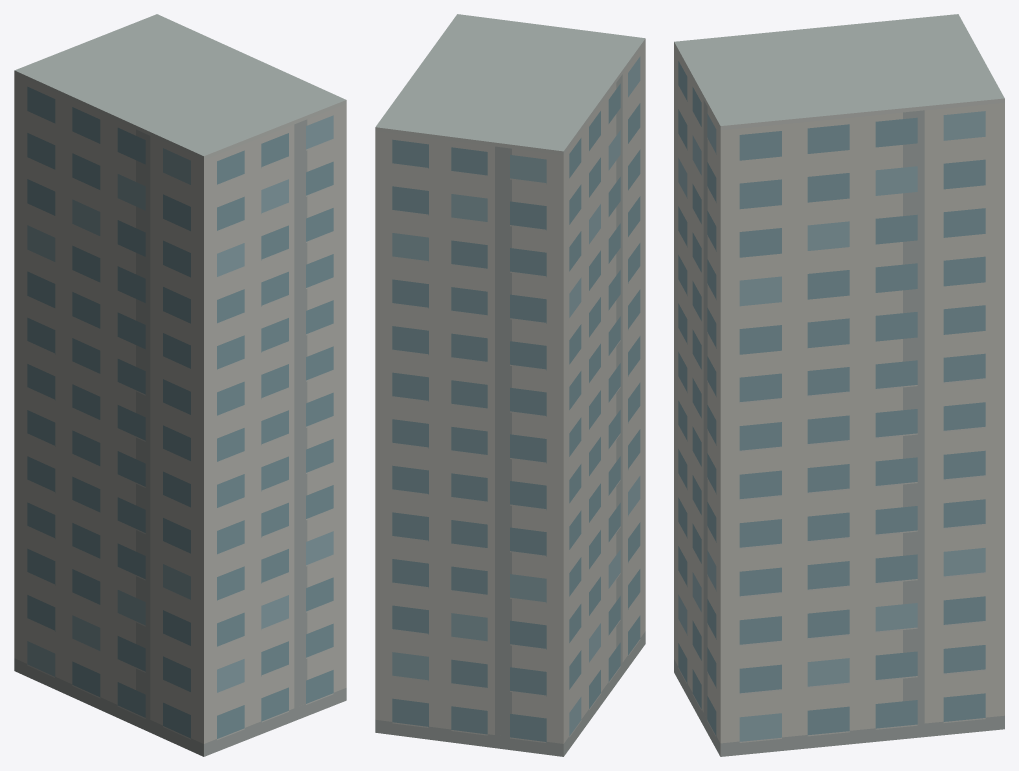
File: survey-upis-32802589.glb
The picture shows the model from 3 angles, left to right: view 1: azimuth 30°, elevation 25°; view 2: azimuth 150°, elevation 25°; view 3: azimuth 270°, elevation 25°; orthographic projection. The views are drawn at different scales.
Parts seen in each view (by area): view 1: survey-upis-32802589.tmp; view 2: survey-upis-32802589.tmp; view 3: survey-upis-32802589.tmp.
Boxes of the visible parts, <box> form: survey-upis-32802589.tmp: <box>14,14,346,756</box>; survey-upis-32802589.tmp: <box>375,14,645,756</box>; survey-upis-32802589.tmp: <box>674,14,1004,756</box>.
Bounding box in the file's own units: 14.38 × 37.7 × 17.92.
